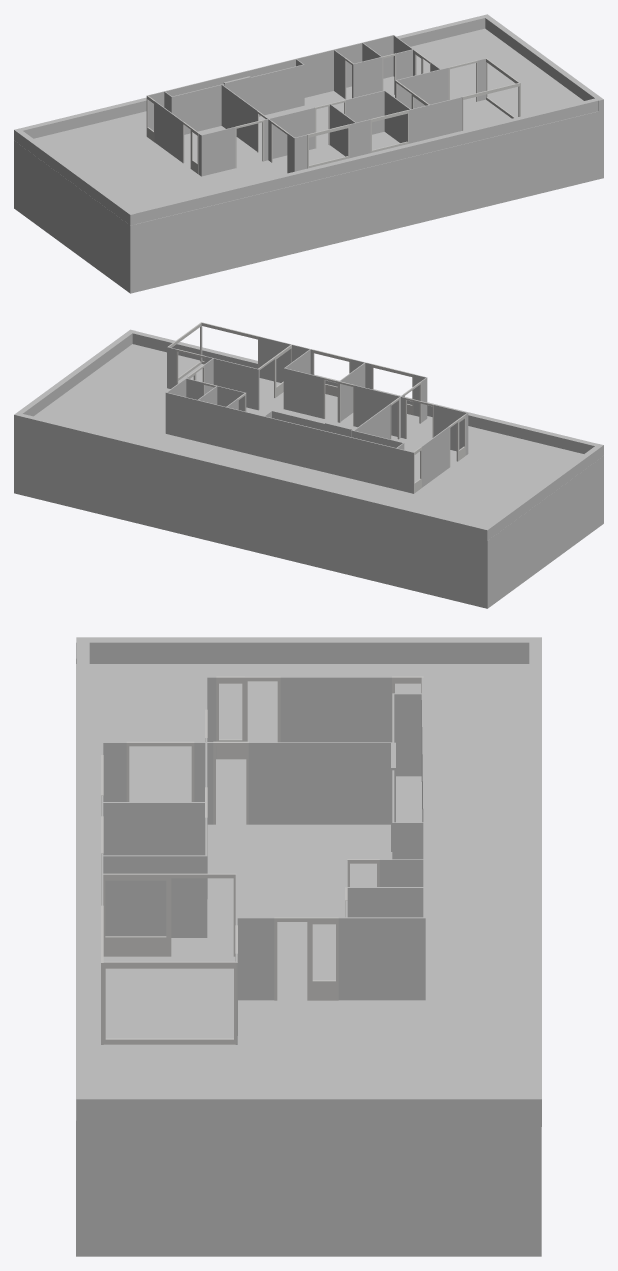
The model's file is ExportedFBXFile.fbx.
The picture shows the model from 3 angles, top to bottom: view 1: azimuth 30°, elevation 25°; view 2: azimuth 150°, elevation 25°; view 3: azimuth 270°, elevation 25°; orthographic projection. The views are drawn at different scales.
Parts seen in each view (by area): view 1: pPlane2, pPlane1, pCube55, pCube54, pCube2, pCube1, pCube50, pCube51, pCube5, pCube16, pCube53, pCube12 (+18 smaller); view 2: pPlane2, pCube56, pCube2, pCube53, pCube52, pPlane1, pCube50, pCube55, pCube51, pCube45, pCube18, pCube12 (+11 smaller); view 3: pPlane2, pPlane1, pCube51, pCube50, pCube14, pCube49, pCube8, pCube4, pCube46, pCube17, pCube55, pCube53 (+14 smaller).
Boxes of the visible parts, x1,y1,x2,y2 form: pPlane2: (14,28,603,293); pPlane1: (184,76,511,172); pCube55: (129,154,370,223); pCube54: (367,97,600,166); pCube2: (296,35,393,97); pCube1: (221,64,304,116); pCube50: (14,128,135,225); pCube51: (482,14,603,111); pCube5: (171,84,221,134); pCube16: (409,97,461,143); pCube53: (15,97,146,138); pCube12: (264,107,314,160); pPlane2: (14,344,603,608); pCube56: (264,416,396,489); pCube2: (165,392,264,457); pCube53: (247,469,488,542); pCube52: (14,412,250,485); pPlane1: (178,364,456,481); pCube50: (482,444,603,543); pCube55: (373,389,601,453); pCube51: (14,329,135,428); pCube45: (283,368,323,418); pCube18: (205,356,258,410); pCube12: (354,385,405,438); pPlane2: (76,659,541,1256); pPlane1: (103,759,392,1038); pCube51: (76,1094,541,1126); pCube50: (76,637,541,663); pCube14: (248,742,391,824); pCube49: (103,855,207,937); pCube8: (280,676,391,742); pCube4: (338,917,423,1000); pCube46: (103,802,204,855); pCube17: (237,917,274,1000); pCube55: (77,638,89,871); pCube53: (529,638,541,871).
Bounding box in the file's own units: 16.27 × 3.62 × 6.93.
